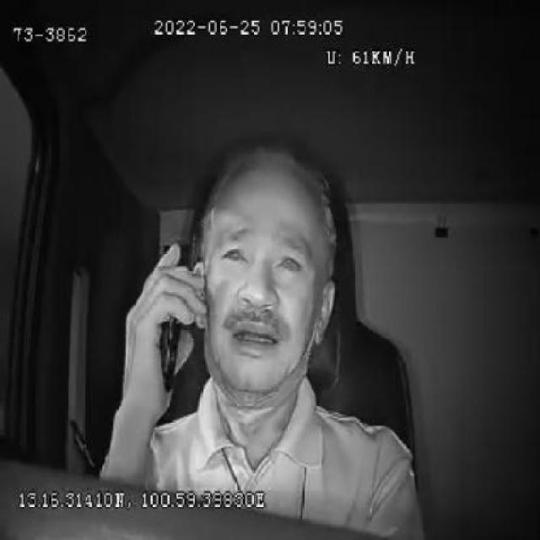phone: (159, 240, 184, 399)
